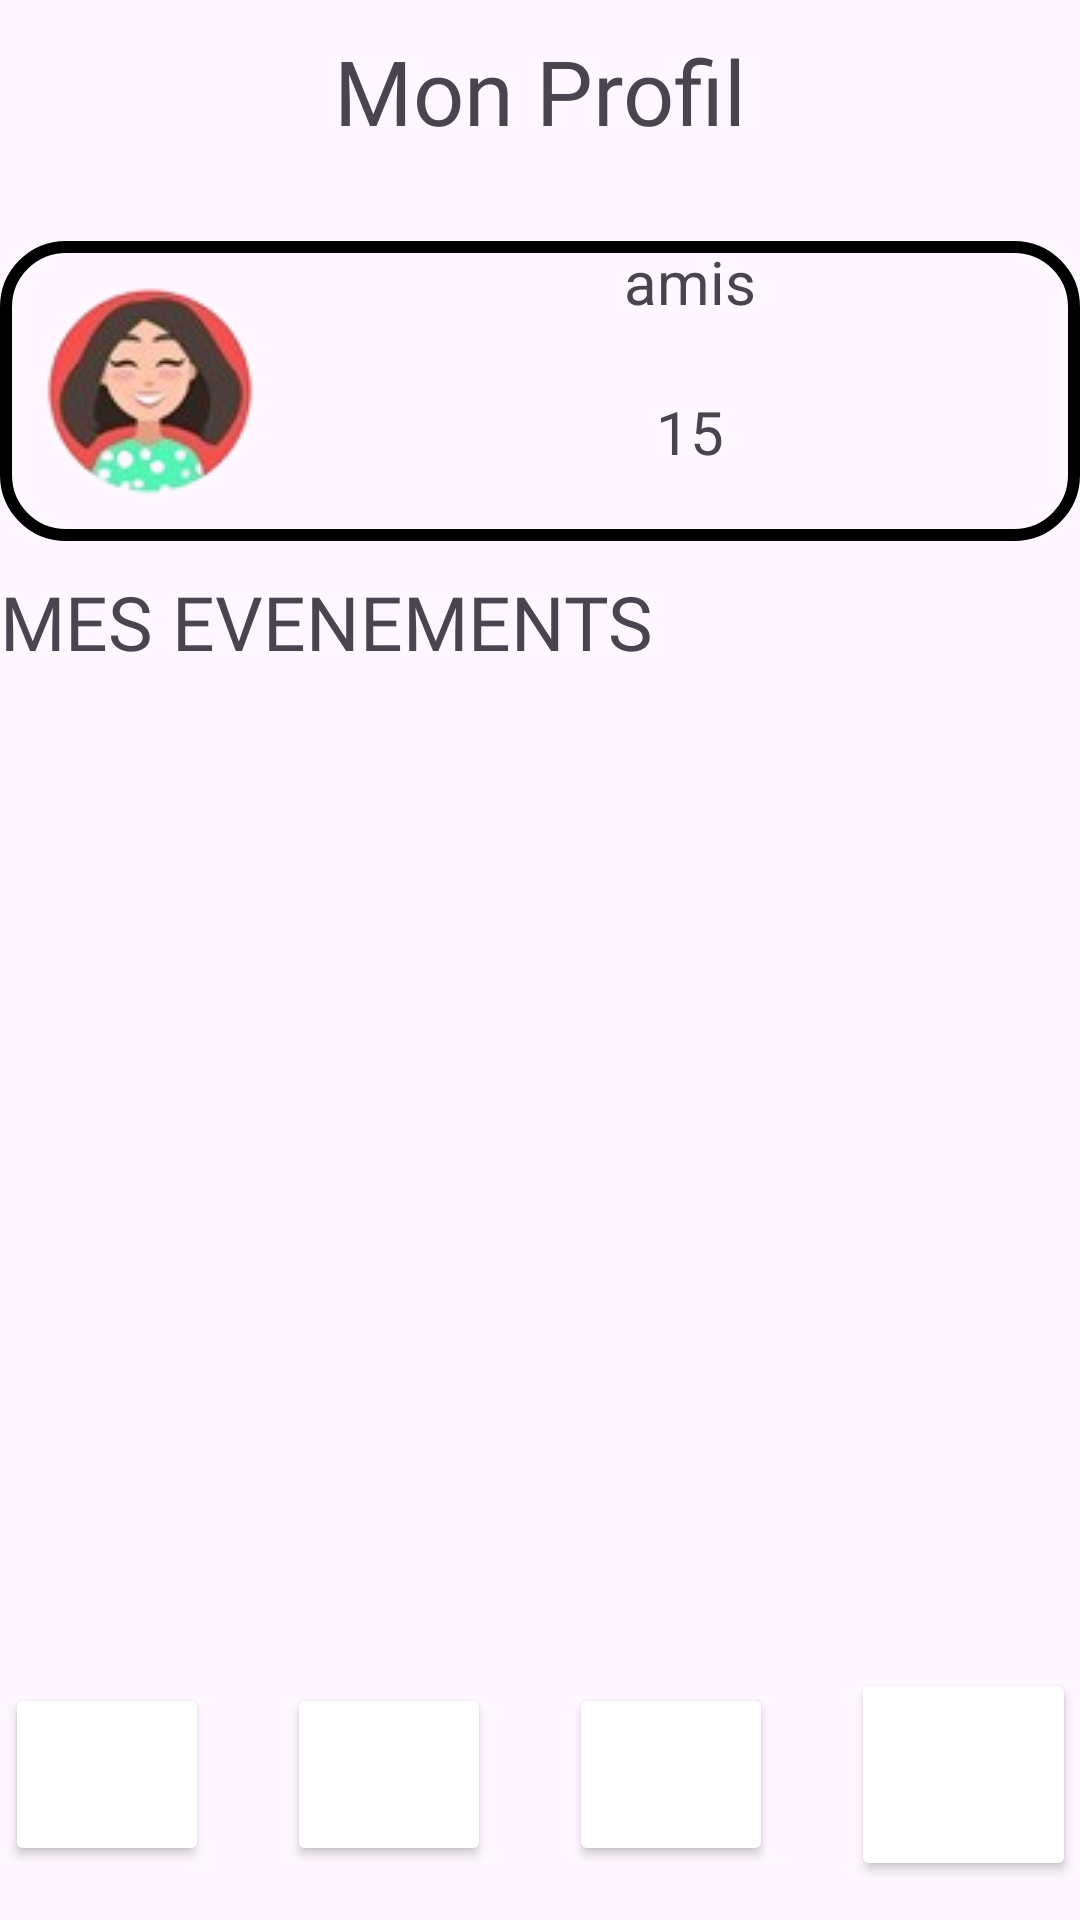

Icon click points for this 1080px×1920px phone screenshot, format [x,y]:
profile: [150,391]
